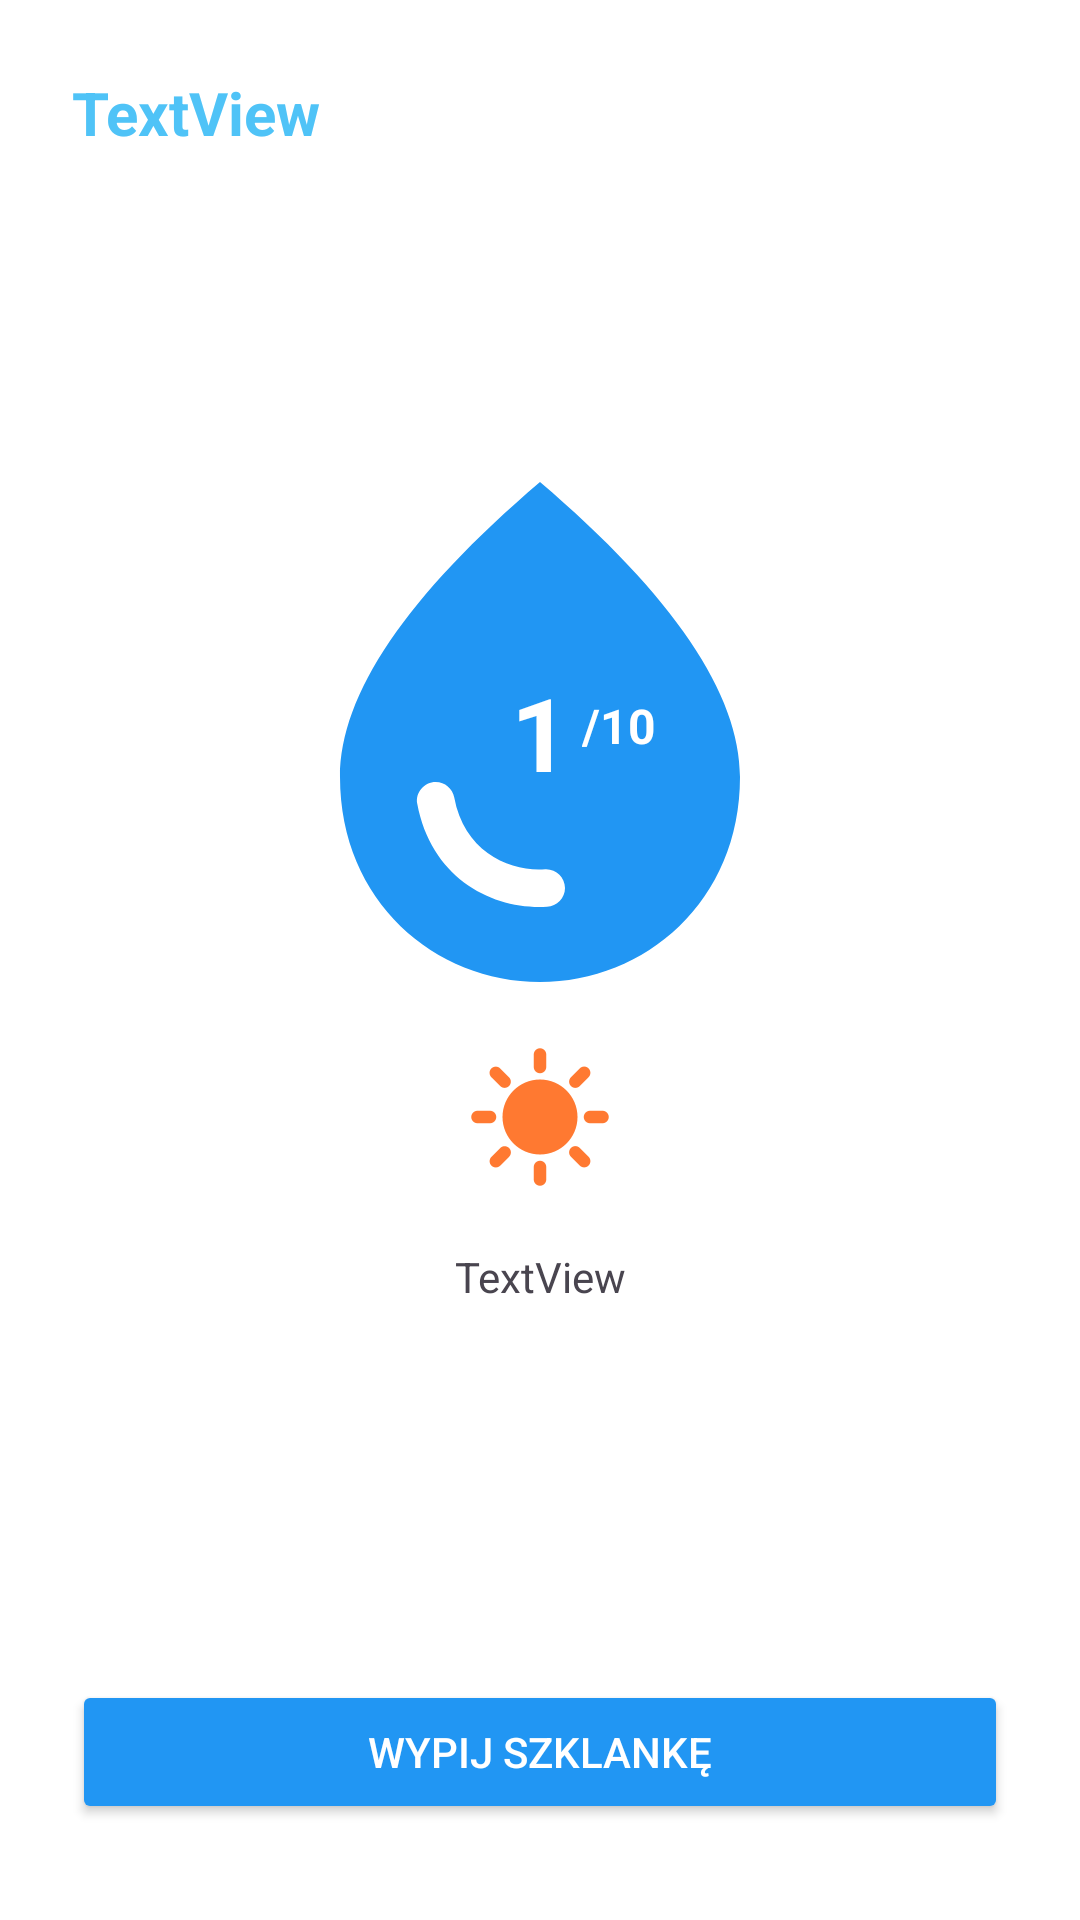

Named icons in this screenshot (1080x1920) and their centers, (x,y):
sunny: (540,1117)
